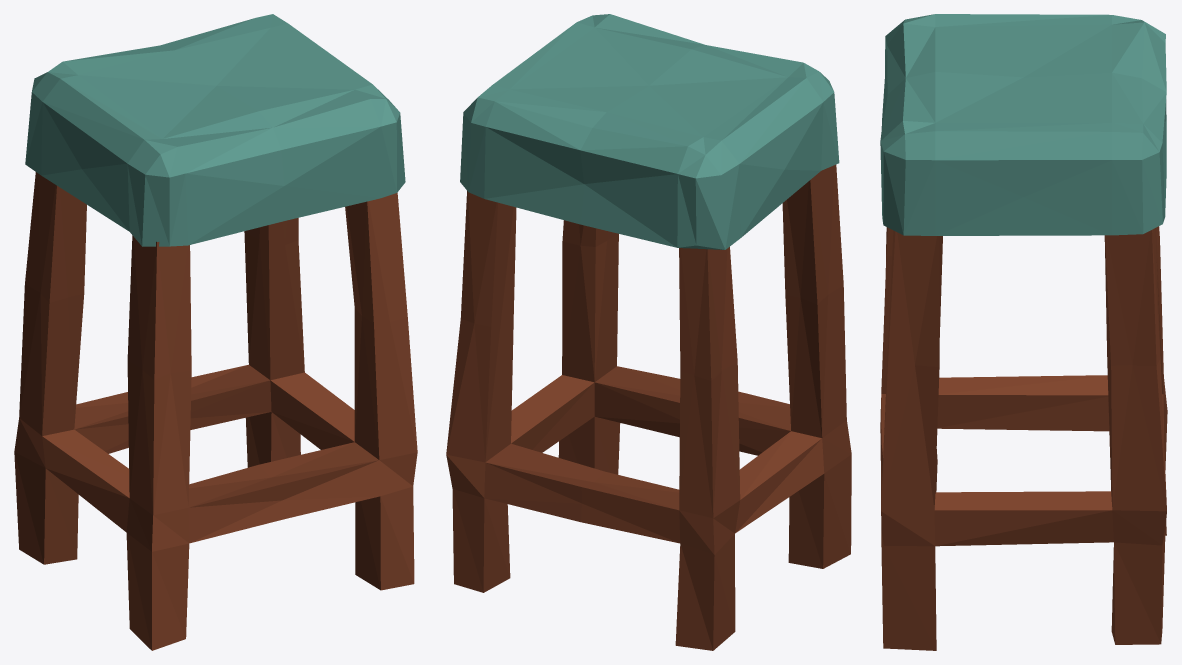
The model's file is kitchen_stool.fbx.
The picture shows the model from 3 angles, left to right: view 1: azimuth 30°, elevation 25°; view 2: azimuth 150°, elevation 25°; view 3: azimuth 270°, elevation 25°; orthographic projection. The views are drawn at different scales.
Parts seen in each view (by area): view 1: kitchen_stool; view 2: kitchen_stool; view 3: kitchen_stool.
Part boxes in pixels (x1,y1,x2,y2): kitchen_stool: (14,14,417,650); kitchen_stool: (446,14,851,650); kitchen_stool: (880,14,1167,650).
Size of the model in its own units: 31.2 by 54.44 by 27.65.
